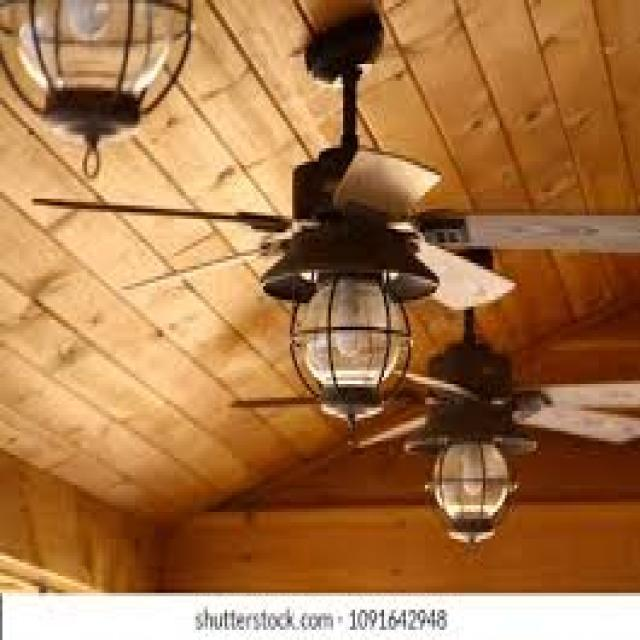bulb_off: (326, 290, 368, 360), (64, 0, 112, 40), (460, 446, 486, 498)
fan_off: (33, 18, 640, 286), (229, 315, 640, 455)
